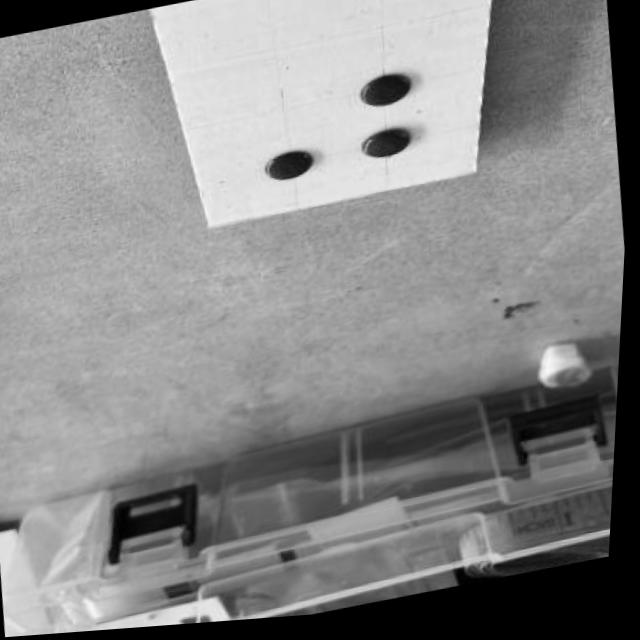braiile: (156, 0, 487, 226)
